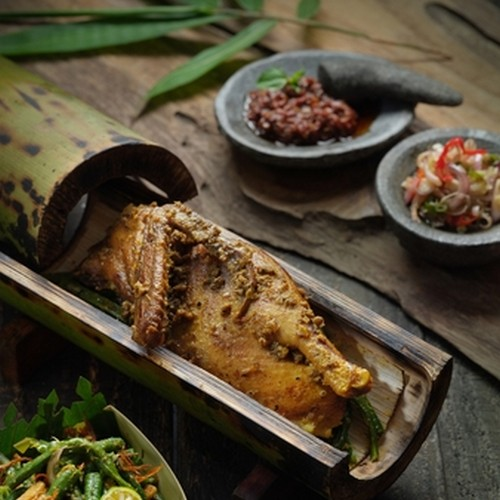bebek timbungan: (79, 185, 401, 453)
